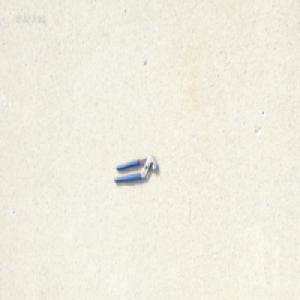Pliers: (112, 154, 158, 184)
